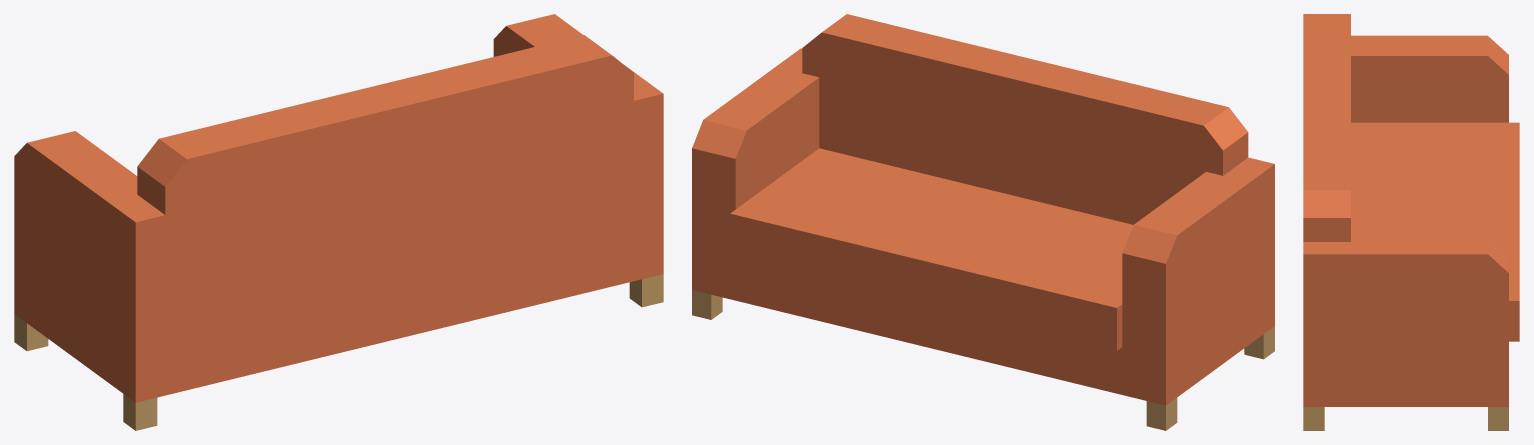
Rendered from loungeSofa.glb.
The picture shows the model from 3 angles, left to right: view 1: azimuth 30°, elevation 25°; view 2: azimuth 150°, elevation 25°; view 3: azimuth 270°, elevation 25°; orthographic projection. The views are drawn at different scales.
Size of the model in its own units: 9.8 by 4.6 by 4.1.
